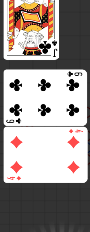4D: (7, 174, 23, 181)
5C: (67, 70, 84, 78)
